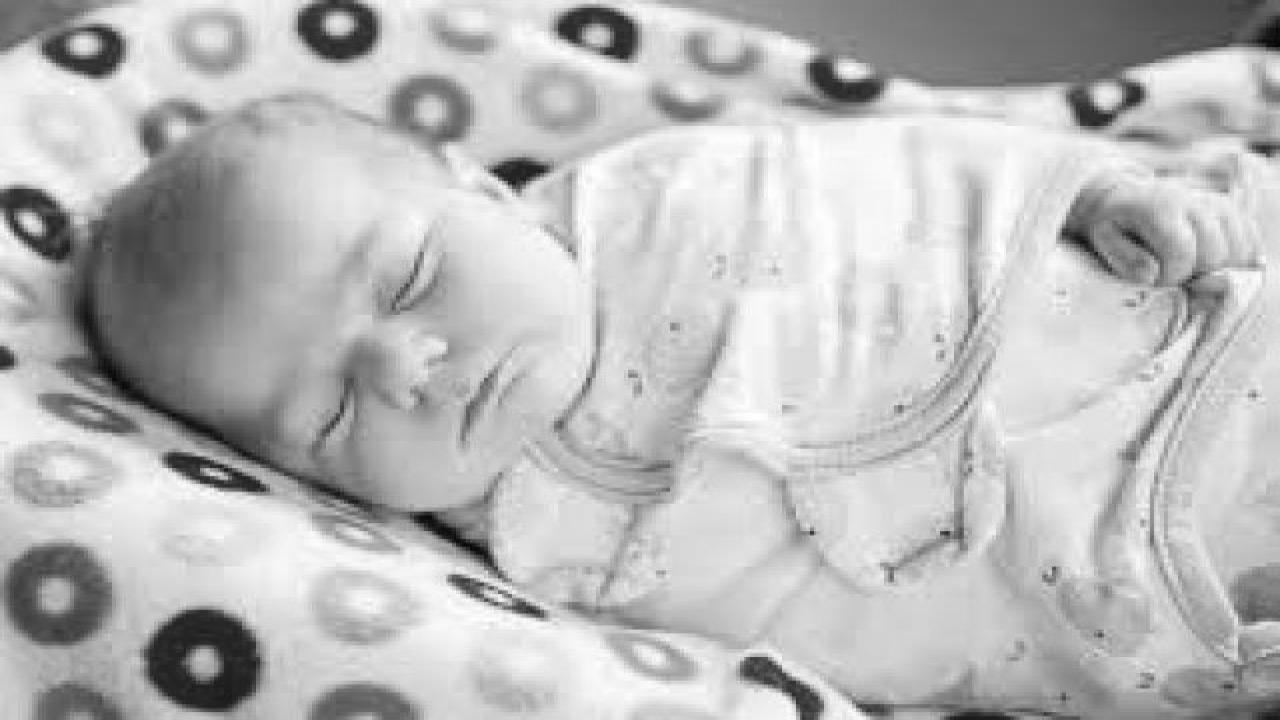hand: (1070, 174, 1260, 288)
